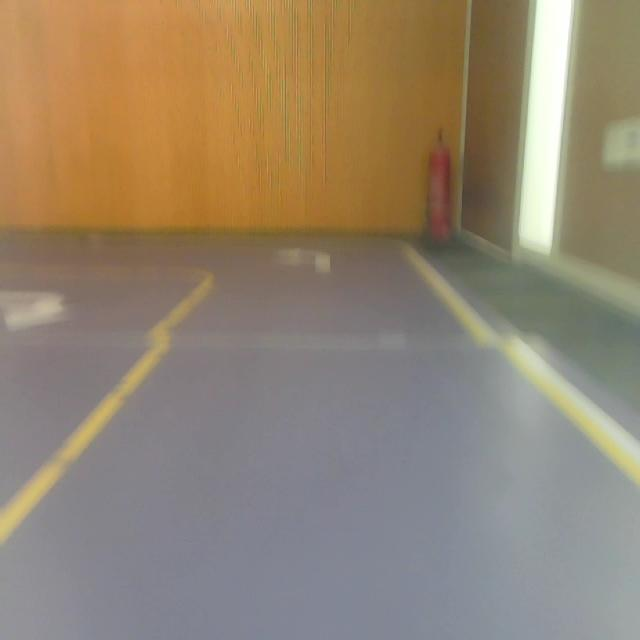left_lane: (0, 281, 216, 547)
right_lane: (406, 253, 638, 487)
